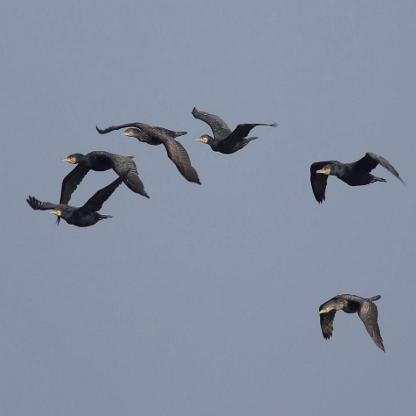Burung: (92, 118, 206, 184), (56, 149, 149, 217), (306, 152, 405, 204), (190, 104, 280, 158), (313, 290, 390, 352), (22, 191, 154, 226)
